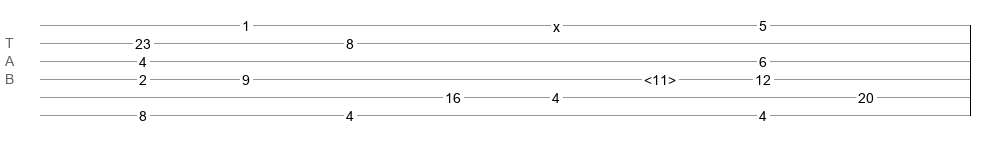1: (242, 18, 250, 28)
12: (755, 72, 771, 82)
16: (445, 90, 461, 100)
2: (139, 72, 147, 82)
20: (858, 90, 874, 100)
23: (135, 36, 151, 46)
4: (139, 54, 147, 64), (346, 108, 354, 118), (552, 90, 560, 100), (759, 108, 767, 118)
5: (759, 18, 767, 28)
6: (759, 54, 767, 64)
8: (139, 108, 147, 118), (346, 36, 354, 46)
9: (242, 72, 250, 82)
harmonic: (644, 72, 676, 82)
x: (553, 19, 560, 27)
